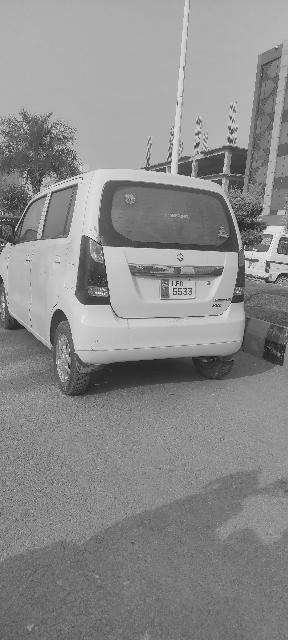Number: (170, 280, 194, 296)
